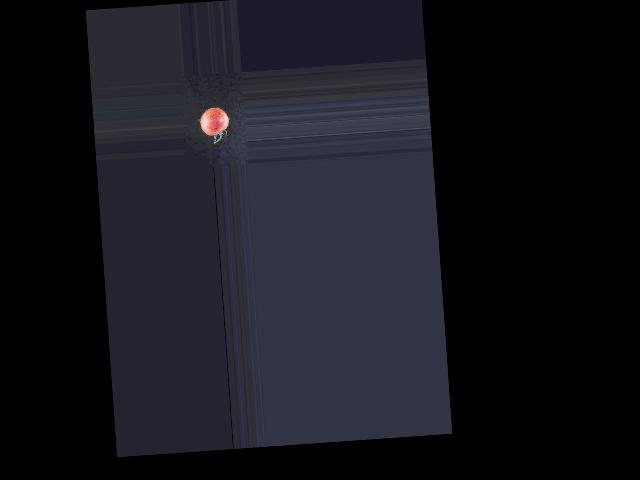tomato: (199, 106, 229, 136)
